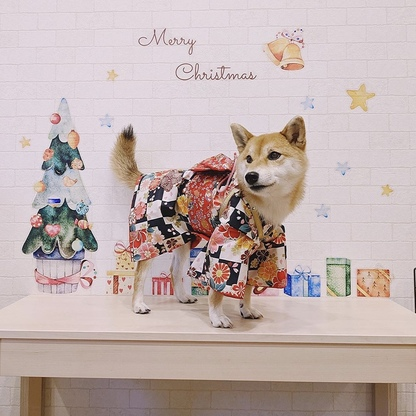shiba: (93, 111, 325, 338)
